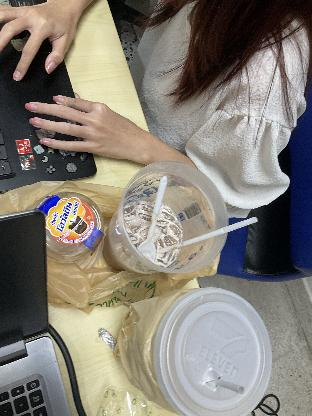Plastic Cup: (132, 294, 276, 414), (118, 164, 224, 280)
